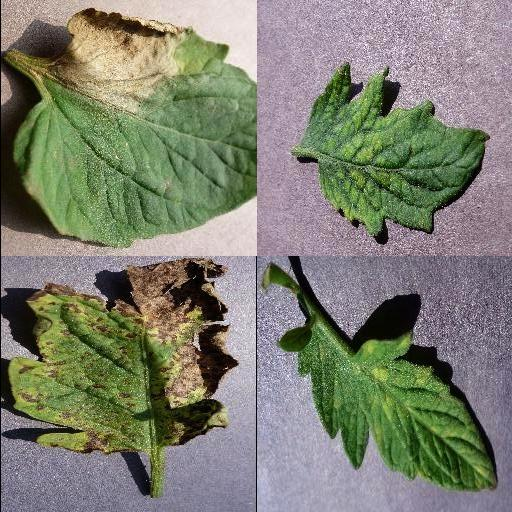Late Blight: (13, 8, 256, 250)
Leaf Mold: (297, 332, 497, 492)
Mosaic Virus: (300, 63, 490, 237)
Septoria: (7, 258, 240, 454)
